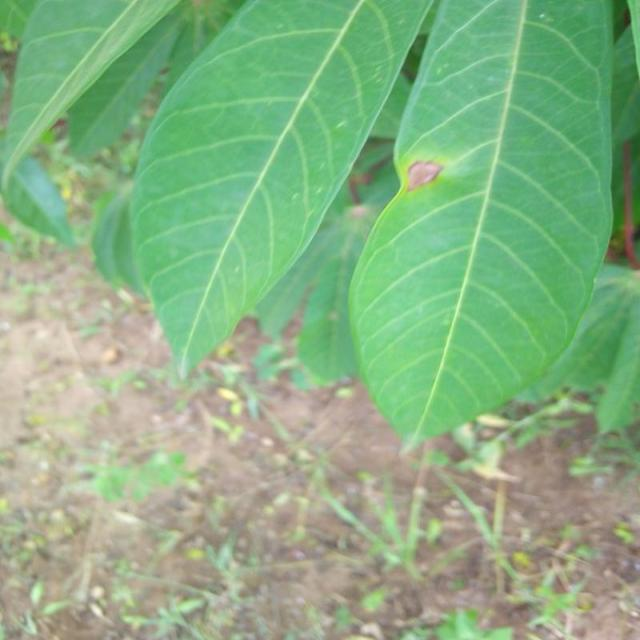cassava leaf: (347, 0, 616, 453), (129, 0, 437, 381)
